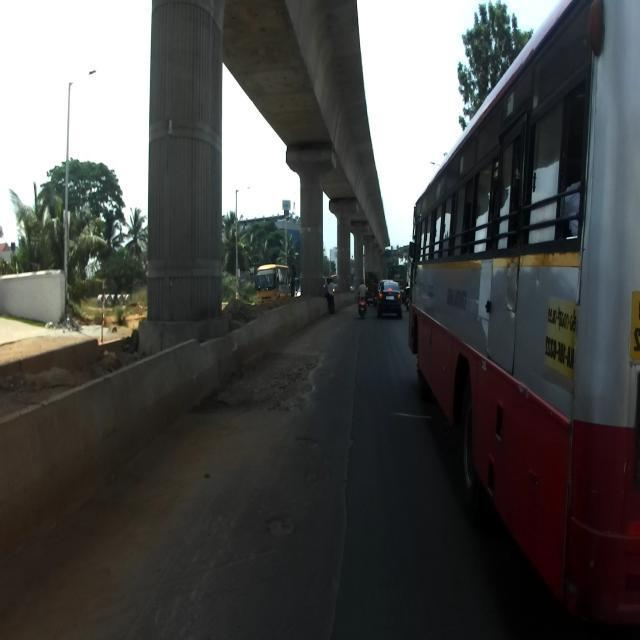Pothole: (202, 316, 315, 421), (247, 480, 317, 558)
